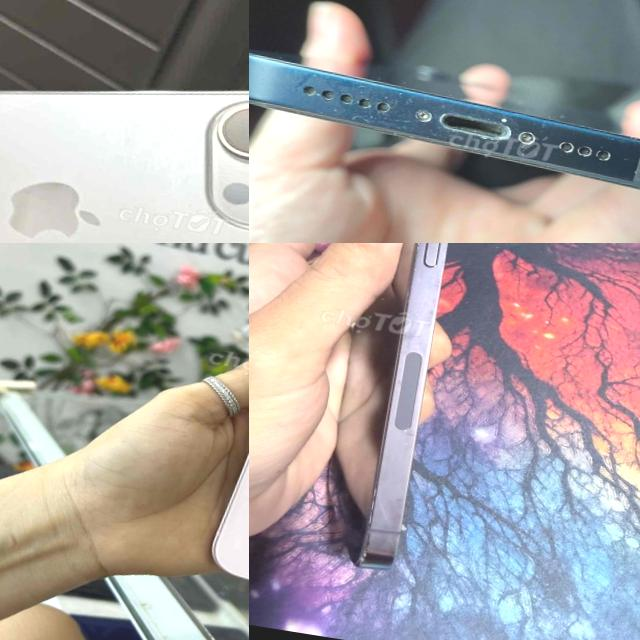gen_12_13: (249, 11, 640, 243), (195, 250, 249, 639)
gen_14: (287, 243, 492, 579), (0, 9, 249, 243)
scratch: (252, 54, 640, 202), (354, 477, 384, 573), (409, 243, 464, 289)
